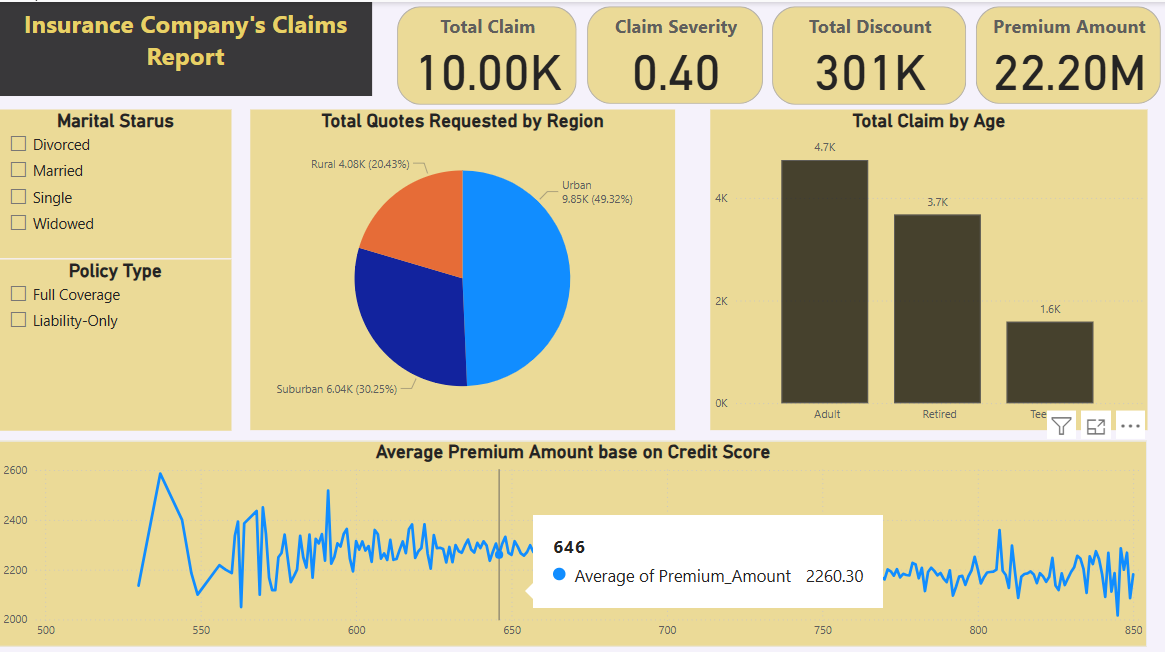

This screenshot's page, from the dashboard's own definition file:
{"tool":"powerbi","page":{"name":"Page 1","canvas":[1280,720],"ordinal":0},"visuals":[{"type":"cardVisual","title":"Claims Severity","fields":{"Data":["Table.Claim_severity"]},"box":[640.1,0,203.4,117.4],"z":0},{"type":"cardVisual","fields":{"Data":["Table.Premium Amount"]},"box":[1066.9,0,213.4,117.4],"z":1000},{"type":"cardVisual","fields":{"Data":["Table.Total Discount"]},"box":[843.5,0,223.4,118.9],"z":2000},{"type":"cardVisual","fields":{"Data":["Table.Total Claim"]},"box":[432.4,0,207.7,118.5],"z":3000},{"type":"clusteredColumnChart","title":"Total Claim by Age","fields":{"Category":["cleaned_insurance_data.Age_group"],"Y":["Table.Total Claim"]},"box":[780.2,118.5,480.1,352.4],"z":4000},{"type":"textbox","box":[0,0,409.3,103.1],"z":5000},{"type":"pieChart","fields":{"Category":["cleaned_insurance_data.Region"],"Y":["Table.Total Quotes Requested"]},"box":[275.5,118.5,466.3,352.4],"z":6000},{"type":"lineChart","title":"Average Premium Amount base on Credit Score","fields":{"Category":["cleaned_insurance_data.Credit_Score"],"Y":["Avg(cleaned_insurance_data.Premium_Amount)"]},"box":[0,481.7,1260.3,226.2],"z":7000},{"type":"slicer","title":"Marital Starus","fields":{"Values":["cleaned_insurance_data.Marital_Status"]},"box":[0,118.5,255.4,163.1],"z":8000},{"type":"slicer","title":"Policy Type","fields":{"Values":["cleaned_insurance_data.Policy_Type"]},"box":[0,283.1,255.4,187.7],"z":9000}]}

Visuals, with their boxes in screenshot pixels (x1, y1, x2, y2), scaled from the page's 1280x720 canvas onto the 1165x652 screenshot:
"Claims Severity" cardVisual: region(583, 0, 768, 106)
cardVisual - Table.Premium Amount: region(971, 0, 1164, 106)
cardVisual - Table.Total Discount: region(768, 0, 971, 108)
cardVisual - Table.Total Claim: region(394, 0, 583, 107)
"Total Claim by Age" clusteredColumnChart: region(710, 107, 1147, 426)
textbox: region(0, 0, 373, 93)
pieChart - cleaned_insurance_data.Region x Table.Total Quotes Requested: region(251, 107, 675, 426)
"Average Premium Amount base on Credit Score" lineChart: region(0, 436, 1147, 641)
"Marital Starus" slicer: region(0, 107, 232, 255)
"Policy Type" slicer: region(0, 256, 232, 426)
